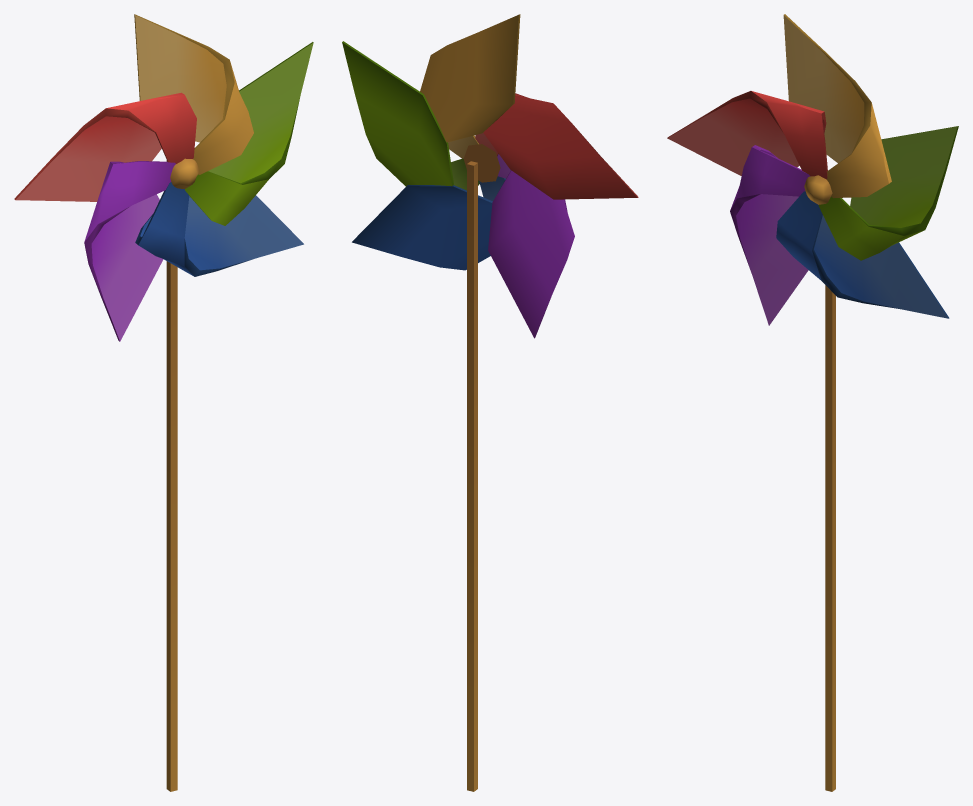
3 views of the same model, side by side, from view 1: azimuth 30°, elevation 25°; view 2: azimuth 150°, elevation 25°; view 3: azimuth 330°, elevation 25° (orthographic). The views are drawn at different scales.
Visible parts, largest first — view 1: color.054; view 2: color.054; view 3: color.054.
Part boxes in pixels (<box>): color.054: <box>14,14,313,791</box>; color.054: <box>342,14,638,791</box>; color.054: <box>667,14,958,791</box>.
Size of the model in its own units: 0.1979 by 0.5 by 0.0233.
